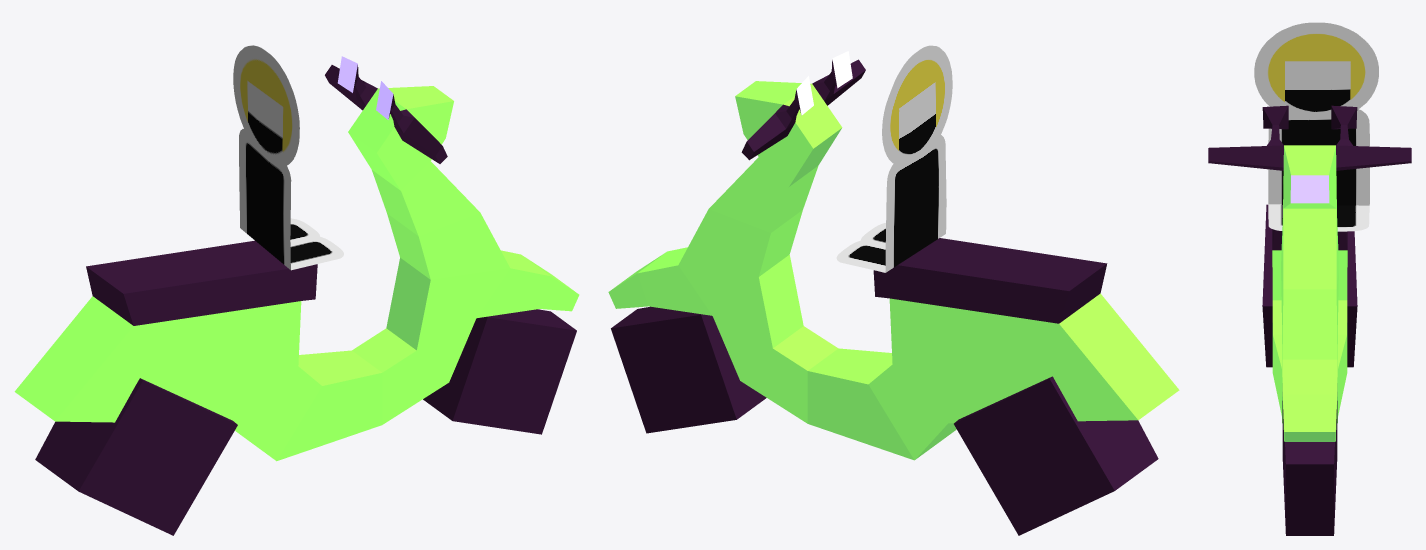
The model's file is Motor_Spion_NoPlat_Helmet.fbx.
3 views of the same model, side by side, from view 1: azimuth 30°, elevation 25°; view 2: azimuth 150°, elevation 25°; view 3: azimuth 270°, elevation 25° (orthographic). The views are drawn at different scales.
Parts seen in each view (by area): view 1: Motor_Spion_NoPlat_Helmet, Sprite People.004; view 2: Motor_Spion_NoPlat_Helmet, Sprite People.004; view 3: Motor_Spion_NoPlat_Helmet, Sprite People.004.
Boxes of the visible parts, x1,y1,x2,y2 form: Motor_Spion_NoPlat_Helmet: (14,56,579,535); Sprite People.004: (233,45,343,270); Motor_Spion_NoPlat_Helmet: (608,51,1179,535); Sprite People.004: (836,45,952,272); Motor_Spion_NoPlat_Helmet: (1208,105,1411,535); Sprite People.004: (1254,22,1378,231).
Bounding box in the file's own units: 262 × 210 × 95.02.
